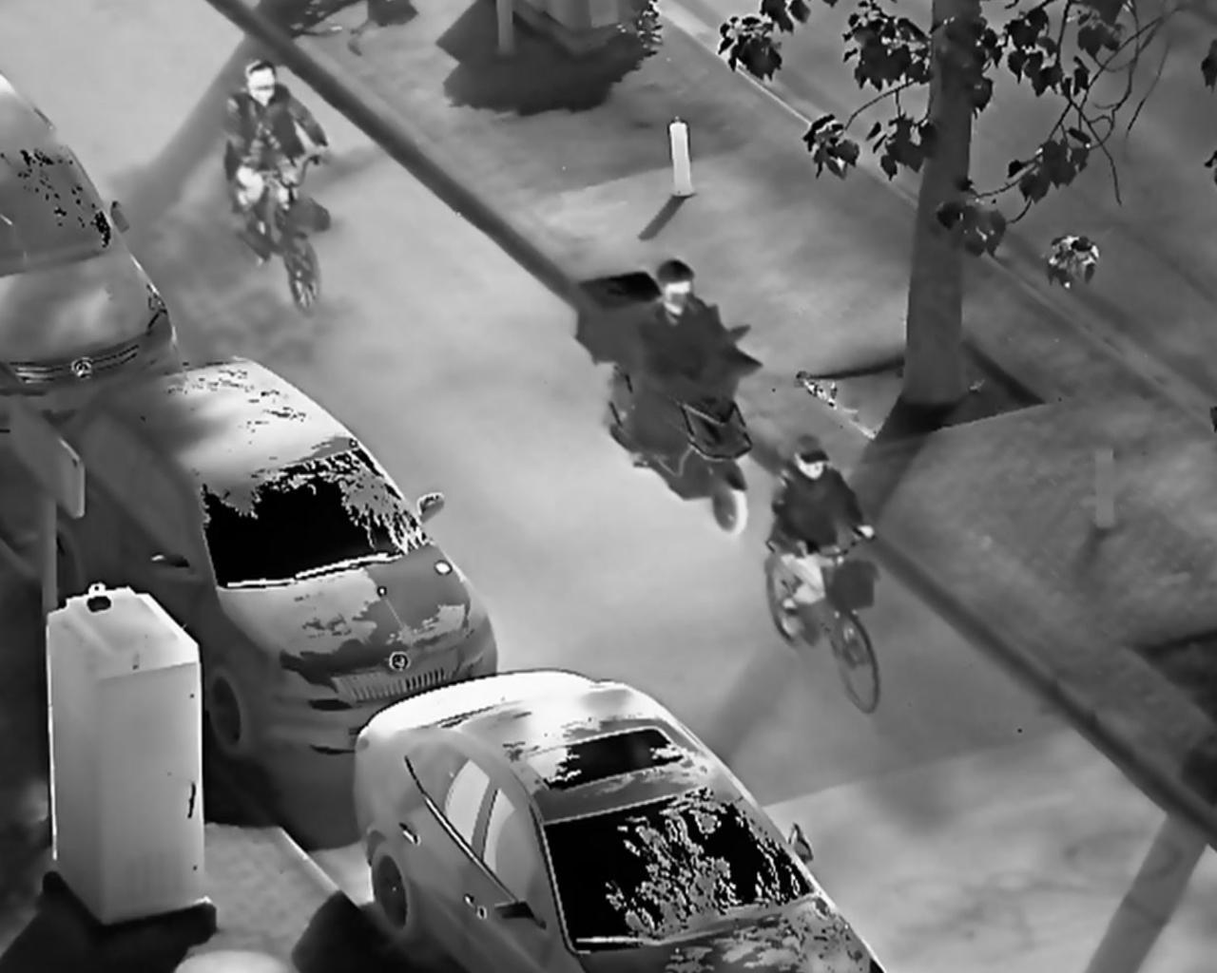person: (222, 59, 337, 273), (766, 436, 881, 641), (641, 258, 742, 471)
